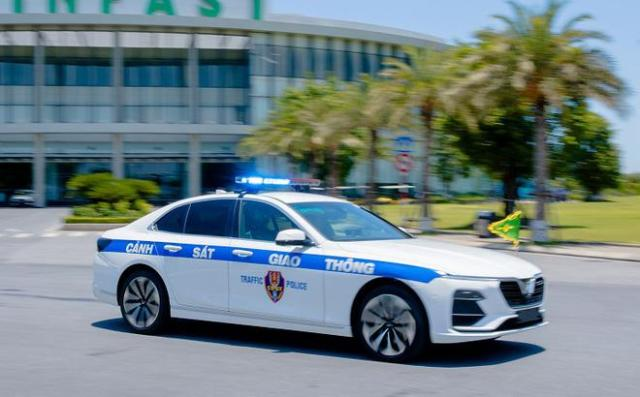police: (94, 175, 548, 354)
